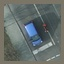car: (23, 20, 41, 48)
